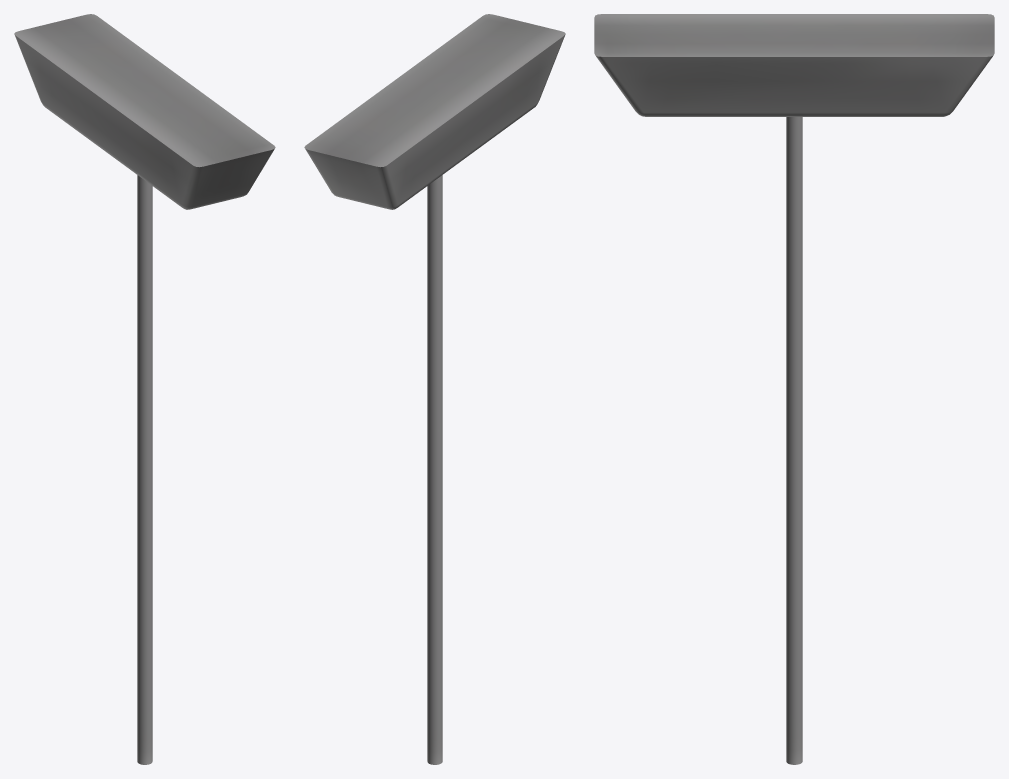
The model's file is bar_sign_5_b.glb.
The picture shows the model from 3 angles, left to right: view 1: azimuth 30°, elevation 25°; view 2: azimuth 150°, elevation 25°; view 3: azimuth 270°, elevation 25°; orthographic projection. The views are drawn at different scales.
Parts seen in each view (by area): view 1: bar_sign_5; view 2: bar_sign_5; view 3: bar_sign_5.
Boxes of the visible parts, x1,y1,x2,y2 form: bar_sign_5: (14,14,275,764); bar_sign_5: (304,14,565,764); bar_sign_5: (594,14,994,764).
Size of the model in its own units: 0.0921 by 0.726 by 0.3627.
Materials: 1 (1 with a texture image).
